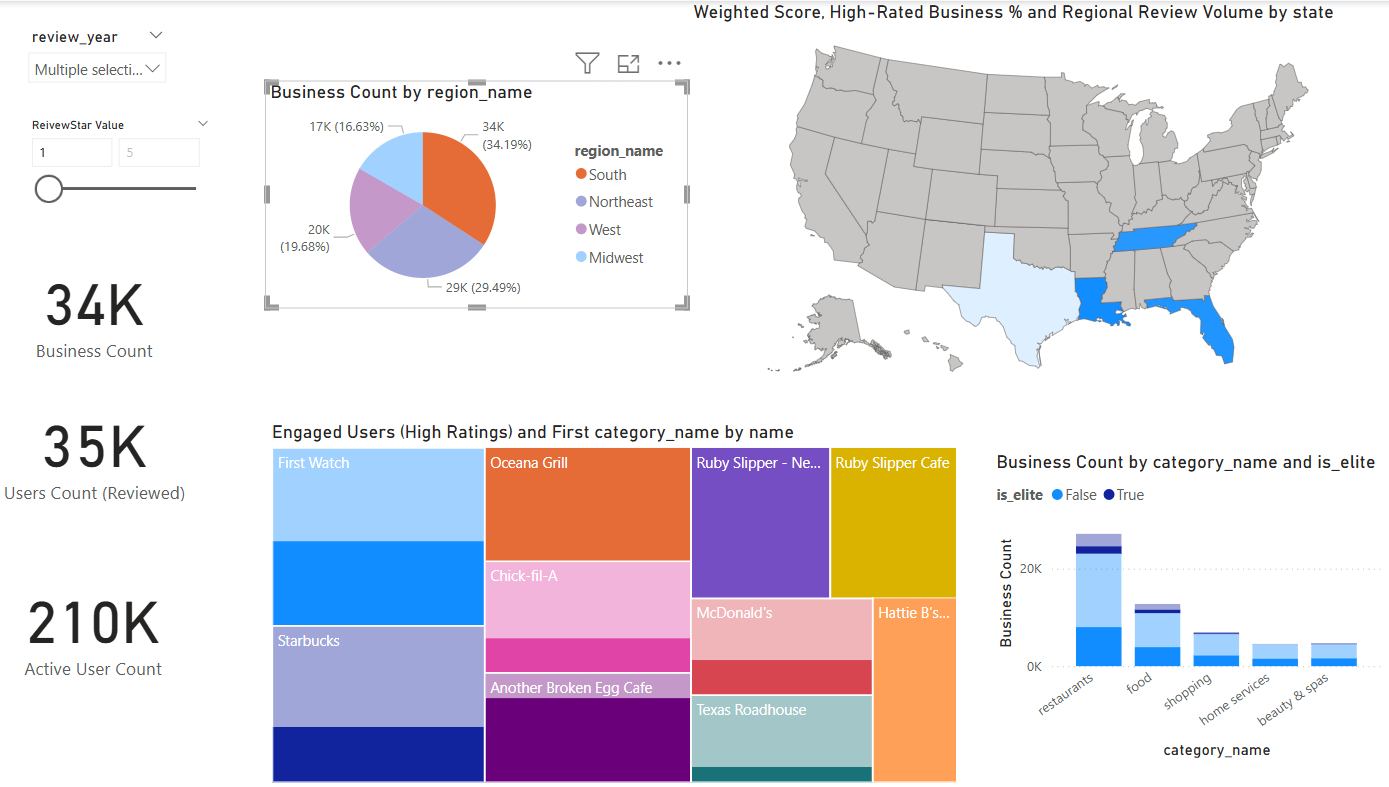

Layout of this report page (visuals, bound fields, positions):
{"tool":"powerbi","page":{"name":"Page 10","canvas":[1280,720],"ordinal":0},"visuals":[{"type":"slicer","fields":{"Values":["fact_review.review_year"]},"box":[25.7,18.6,145.7,68.6],"z":0},{"type":"card","fields":{"Values":["dim_business_data.Business Count"]},"box":[25.7,230,140,102.9],"z":1000},{"type":"card","fields":{"Values":["fact_user_metrics.Active User Count"]},"box":[0,520,190,102.9],"z":2000},{"type":"card","fields":{"Values":["Measures_Report.Users Count (Reviewed)"]},"box":[0,360,192.9,102.9],"z":3000},{"type":"pieChart","fields":{"Category":["dim_state_mapping.region_name"],"Y":["dim_business_data.Business Count"]},"box":[252.9,72.9,387.1,208.6],"z":4000},{"type":"shapeMap","fields":{"Category":["dim_state_mapping.state"],"Value":["Measures_Report.Weighted Score"]},"box":[640,0,640,360],"z":5000},{"type":"treemap","fields":{"Values":["Measures_Report.UsersRatedAbove4"],"Group":["dim_business_data.name"]},"box":[254.3,384.3,637.1,335.7],"z":6000},{"type":"slicer","fields":{"Values":["ReviewStarThreshold.ReivewStar Value"]},"box":[25.7,101.4,187.1,95.7],"z":7000},{"type":"columnChart","fields":{"Category":["dim_category.category_name"],"Y":["dim_business_data.Business Count"],"Series":["fact_user_metrics.is_elite"]},"box":[917.1,411.4,362.9,285.7],"z":8000}]}

Visuals, with their boxes in screenshot pixels (x1, y1, x2, y2), scaled from the page's 1280x720 canvas onto the 1389x787 screenshot:
slicer - fact_review.review_year: (x1=28, y1=20, x2=186, y2=95)
card - dim_business_data.Business Count: (x1=28, y1=251, x2=180, y2=364)
card - fact_user_metrics.Active User Count: (x1=0, y1=568, x2=206, y2=681)
card - Measures_Report.Users Count (Reviewed): (x1=0, y1=393, x2=209, y2=506)
pieChart - dim_state_mapping.region_name x dim_business_data.Business Count: (x1=274, y1=80, x2=694, y2=308)
shapeMap - dim_state_mapping.state x Measures_Report.Weighted Score: (x1=694, y1=0, x2=1388, y2=393)
treemap - Measures_Report.UsersRatedAbove4 x dim_business_data.name: (x1=276, y1=420, x2=967, y2=786)
slicer - ReviewStarThreshold.ReivewStar Value: (x1=28, y1=111, x2=231, y2=215)
columnChart - dim_category.category_name x dim_business_data.Business Count: (x1=995, y1=450, x2=1388, y2=762)
